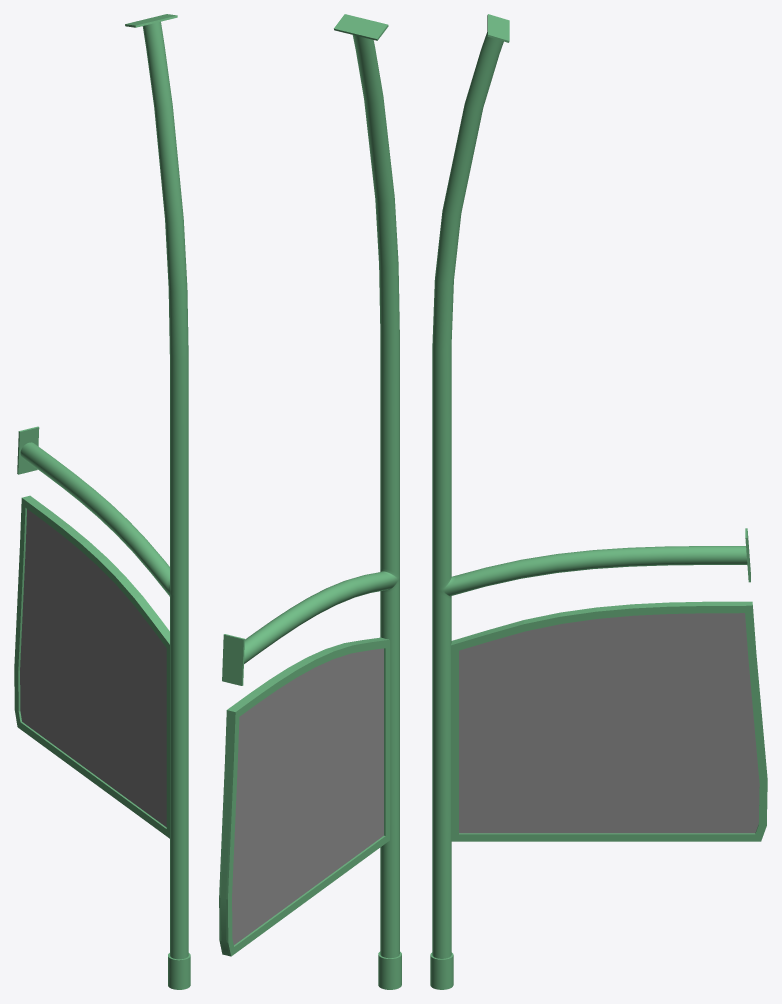
File: Pole_Bend_I.FBX
3 views of the same model, side by side, from view 1: azimuth 30°, elevation 25°; view 2: azimuth 150°, elevation 25°; view 3: azimuth 270°, elevation 25° (orthographic). The views are drawn at different scales.
Visible parts, largest first — view 1: Pole_Bend; view 2: Pole_Bend; view 3: Pole_Bend.
Part boxes in pixels (box(x1,y1,x2,y2)): Pole_Bend: box(14, 14, 190, 989); Pole_Bend: box(219, 14, 401, 989); Pole_Bend: box(430, 14, 767, 989).
Size of the model in its own units: 0.0973 by 2.1 by 0.6691.
